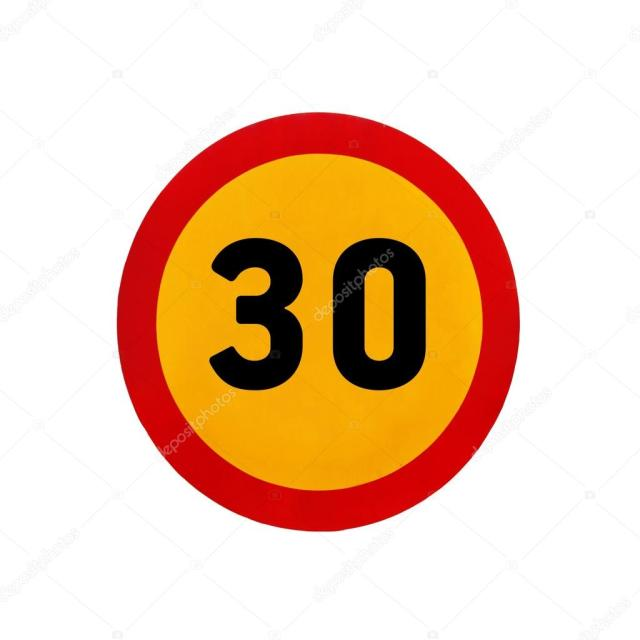Speed limit 30: (115, 110, 524, 535)
